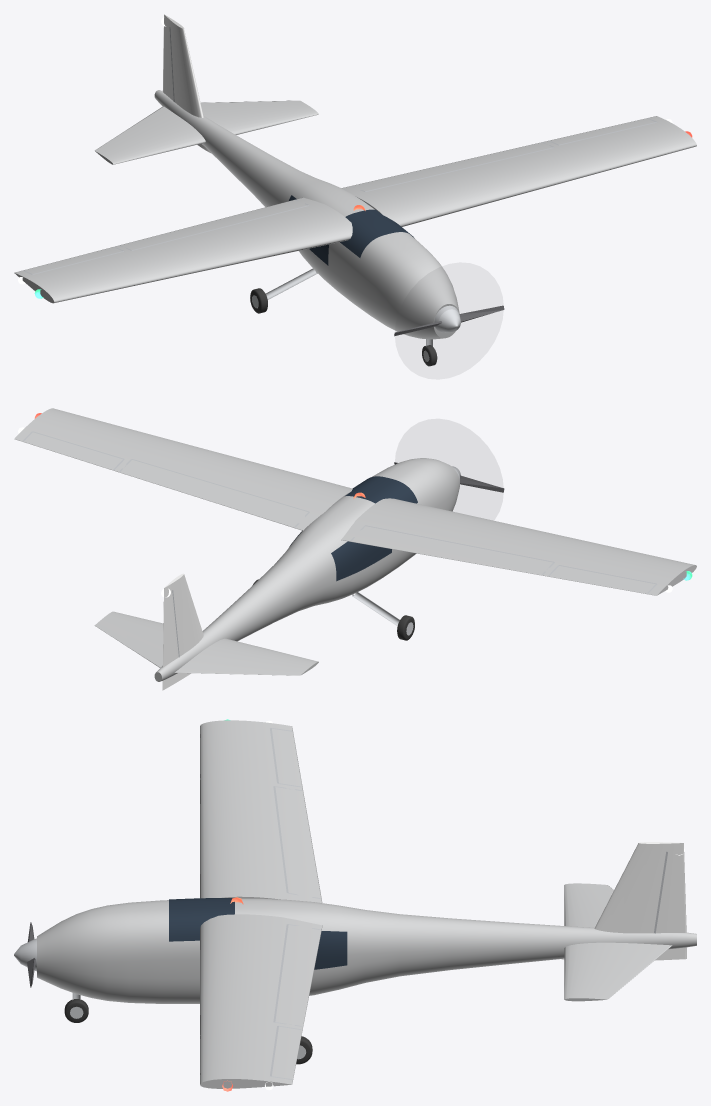
The picture shows the model from 3 angles, top to bottom: view 1: azimuth 30°, elevation 25°; view 2: azimuth 150°, elevation 25°; view 3: azimuth 270°, elevation 25°; orthographic projection. The views are drawn at different scales.
Visible parts, largest first — view 1: airframe, gear; view 2: airframe, gear; view 3: airframe, gear.
Boxes of the visible parts, bbox=[...] form: airframe: bbox=[14, 14, 696, 339]; gear: bbox=[250, 268, 437, 366]; airframe: bbox=[14, 408, 696, 690]; gear: bbox=[252, 579, 414, 640]; airframe: bbox=[14, 719, 696, 1091]; gear: bbox=[64, 993, 312, 1064].
Size of the model in its own units: 11.02 by 2.51 by 8.69.
